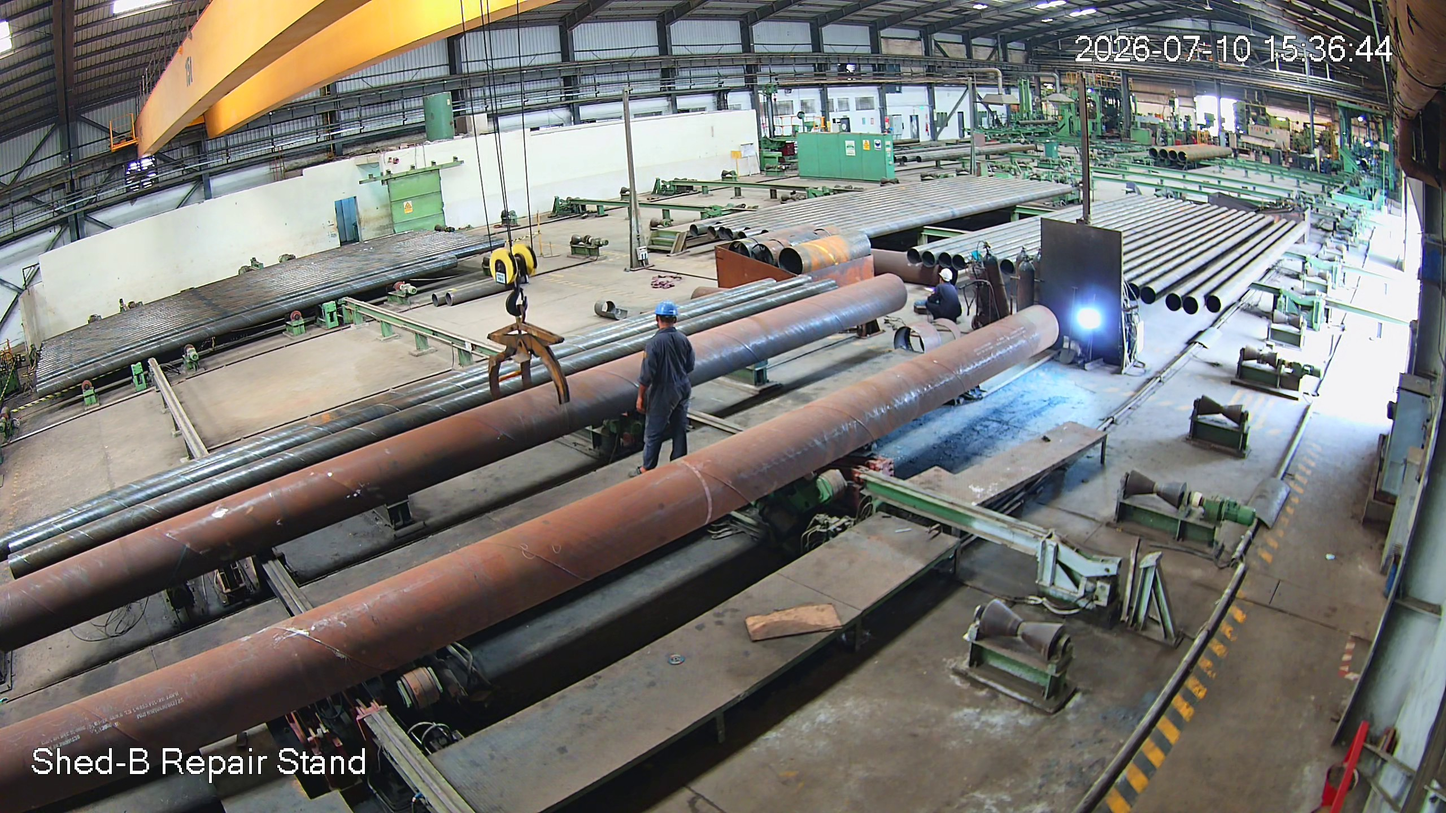Helmet: (647, 300, 694, 346), (936, 266, 957, 293)
Person: (638, 302, 695, 472), (926, 268, 966, 325)
